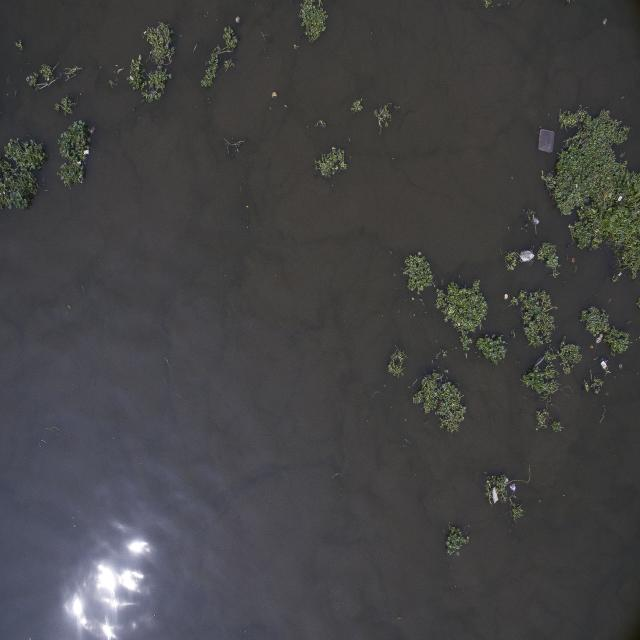plastic: (532, 119, 560, 160), (517, 246, 539, 268), (598, 356, 616, 381), (488, 481, 501, 508), (507, 475, 521, 498), (80, 142, 95, 160), (616, 190, 626, 207), (502, 289, 512, 305)
